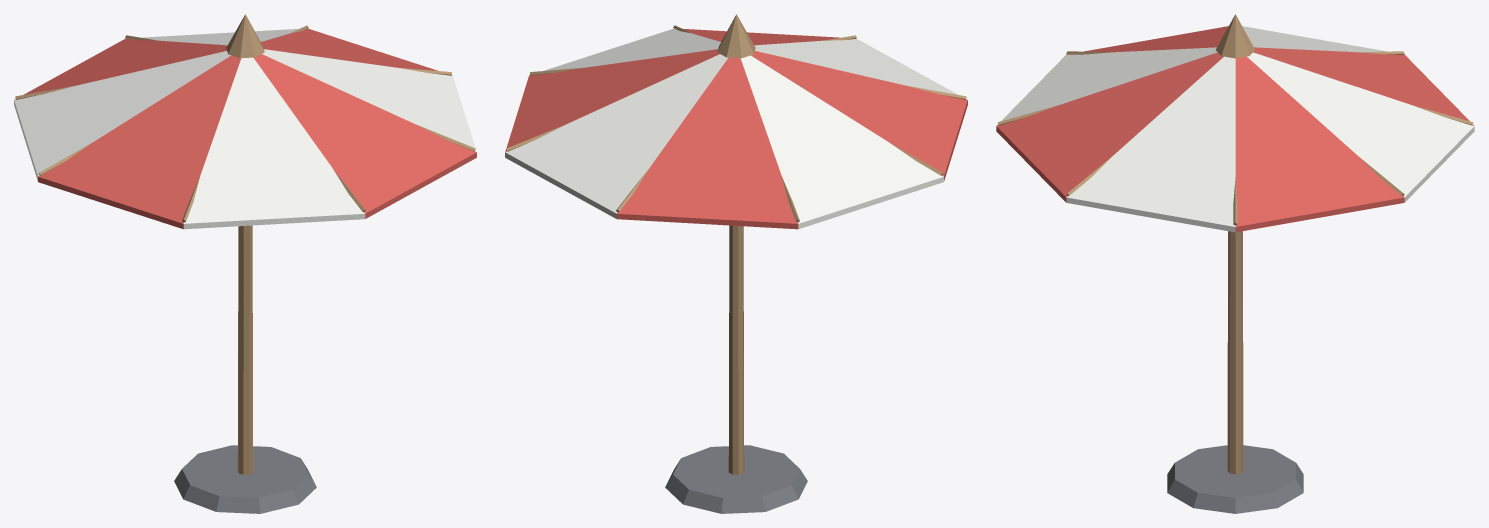
Rendered from packed.glb.
3 renders of one model, left to right at view 1: azimuth 30°, elevation 25°; view 2: azimuth 150°, elevation 25°; view 3: azimuth 270°, elevation 25°, orthographic.
Parts seen in each view (by area): view 1: course-parasol; view 2: course-parasol; view 3: course-parasol.
Boxes of the visible parts, <box> form: course-parasol: <box>14,14,476,513</box>; course-parasol: <box>505,14,967,513</box>; course-parasol: <box>996,14,1474,513</box>.
Bounding box in the file's own units: 2.4 × 2.6 × 2.4.
